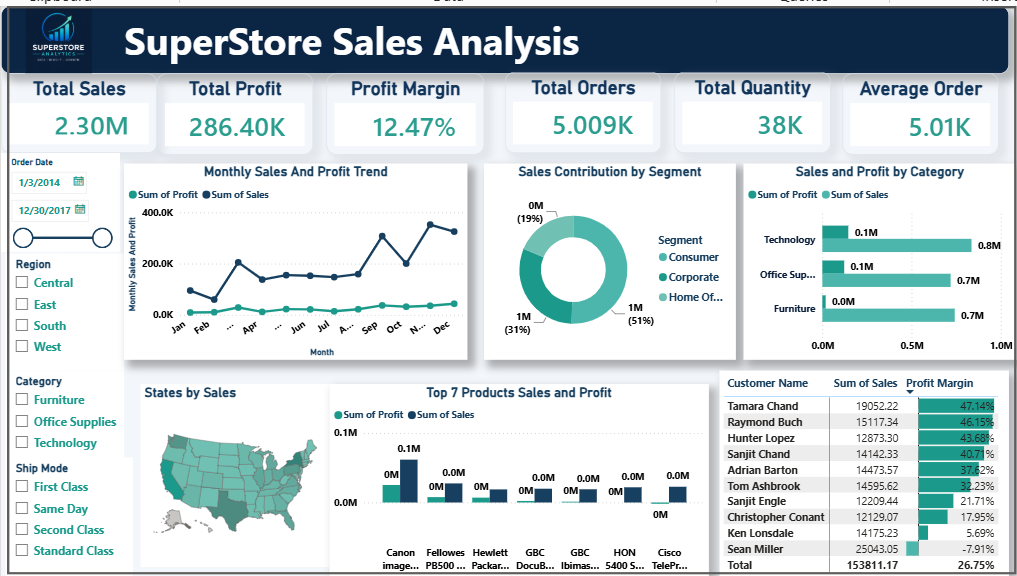

The page's visual inventory and layout, read from the dashboard file:
{"tool":"powerbi","page":{"name":"Excutive Summary","canvas":[1280,720],"ordinal":0},"visuals":[{"type":"textbox","box":[0,0,1269.9,85],"z":0},{"type":"cardVisual","title":"Total Sales","fields":{"Data":["Sum(Sample - Superstore.Sales)"]},"box":[0,85,196.5,100.2],"z":1000},{"type":"image","box":[24.2,0,97,84.8],"z":2000},{"type":"cardVisual","title":"Total  Quantity","fields":{"Data":["Sum(Sample - Superstore.Quantity)"]},"box":[848.5,83.2,196.5,102],"z":3000},{"type":"cardVisual","title":"Total Orders","fields":{"Data":["Count(Sample - Superstore.Order ID)"]},"box":[635,83.2,196.5,102],"z":4000},{"type":"cardVisual","title":"Profit Margin","fields":{"Data":["Sample - Superstore.Profit Margin"]},"box":[410.1,85,198.4,102],"z":5000},{"type":"cardVisual","title":"Total Profit","fields":{"Data":["Sum(Sample - Superstore.Profit)"]},"box":[196.5,85,196.5,102],"z":6000},{"type":"donutChart","title":"Sales Contribution by Segment","fields":{"Category":["Sample - Superstore.Segment"],"Y":["Sum(Sample - Superstore.Sales)"]},"box":[608.5,198.4,317.5,247.6],"z":7000},{"type":"slicer","fields":{"Values":["Sample - Superstore.Order Date"]},"box":[0,185.2,149.3,124.7],"z":8000},{"type":"slicer","fields":{"Values":["Sample - Superstore.Region"]},"box":[5.7,311.8,149.3,147.4],"z":9000},{"type":"slicer","fields":{"Values":["Sample - Superstore.Category"]},"box":[5.7,459.2,149.3,126.6],"z":10000},{"type":"slicer","fields":{"Values":["Sample - Superstore.Ship Mode"]},"box":[5.7,568.8,160.6,151.2],"z":11000},{"type":"cardVisual","title":"Average Order","fields":{"Data":["Count(Sample - Superstore.Order ID)"]},"box":[1060.2,85,196.5,102],"z":12000},{"type":"lineChart","title":"Monthly Sales And Profit Trend","fields":{"Y":["Sum(Sample - Superstore.Profit)","Sum(Sample - Superstore.Sales)"],"Category":["Sample - Superstore.Month Name"]},"box":[155,198.4,432.8,247.6],"z":13000},{"type":"clusteredBarChart","title":"Sales and Profit by Category","fields":{"Category":["Sample - Superstore.Category"],"Y":["Sum(Sample - Superstore.Profit)","Sum(Sample - Superstore.Sales)"]},"box":[935.4,198.4,343.9,247.6],"z":14000},{"type":"shapeMap","title":"States by Sales","fields":{"Category":["Sample - Superstore.State"],"Value":["Sum(Sample - Superstore.Sales)"]},"box":[175.7,476.2,238.1,230.6],"z":15000},{"type":"clusteredColumnChart","title":"Top 7 Products Sales and Profit","fields":{"Y":["Sum(Sample - Superstore.Profit)","Sum(Sample - Superstore.Sales)"],"Category":["Sample - Superstore.Short Product Nmae"]},"box":[413.9,476.2,478.1,243.8],"z":16000},{"type":"pivotTable","fields":{"Rows":["Sample - Superstore.Customer Name"],"Values":["Sum(Sample - Superstore.Sales)","Sample - Superstore.Profit Margin"]},"box":[905.2,459.2,364.7,260.8],"z":17000},{"type":"actionButton","box":[7.6,0,1271.8,716.2],"z":17001}]}

Visuals, with their boxes in screenshot pixels (x1, y1, x2, y2), scaled from the page's 1280x720 canvas onto the 1017x576 screenshot:
textbox: [left=0, top=0, right=1009, bottom=68]
"Total Sales" cardVisual: [left=0, top=68, right=156, bottom=148]
image: [left=19, top=0, right=96, bottom=68]
"Total  Quantity" cardVisual: [left=674, top=67, right=830, bottom=148]
"Total Orders" cardVisual: [left=505, top=67, right=661, bottom=148]
"Profit Margin" cardVisual: [left=326, top=68, right=483, bottom=150]
"Total Profit" cardVisual: [left=156, top=68, right=312, bottom=150]
"Sales Contribution by Segment" donutChart: [left=483, top=159, right=736, bottom=357]
slicer - Sample - Superstore.Order Date: [left=0, top=148, right=119, bottom=248]
slicer - Sample - Superstore.Region: [left=5, top=249, right=123, bottom=367]
slicer - Sample - Superstore.Category: [left=5, top=367, right=123, bottom=469]
slicer - Sample - Superstore.Ship Mode: [left=5, top=455, right=132, bottom=575]
"Average Order" cardVisual: [left=842, top=68, right=998, bottom=150]
"Monthly Sales And Profit Trend" lineChart: [left=123, top=159, right=467, bottom=357]
"Sales and Profit by Category" clusteredBarChart: [left=743, top=159, right=1016, bottom=357]
"States by Sales" shapeMap: [left=140, top=381, right=329, bottom=565]
"Top 7 Products Sales and Profit" clusteredColumnChart: [left=329, top=381, right=709, bottom=575]
pivotTable - Sample - Superstore.Customer Name x Sum(Sample - Superstore.Sales): [left=719, top=367, right=1009, bottom=575]
actionButton: [left=6, top=0, right=1016, bottom=573]
